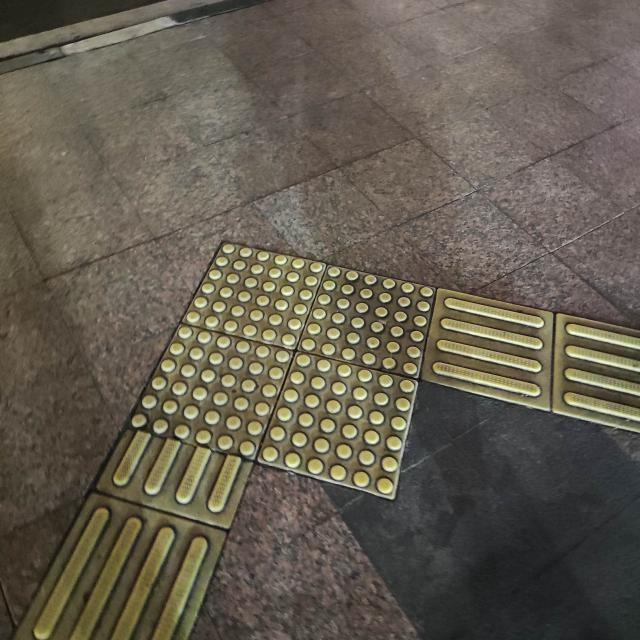kanan: (100, 209, 634, 563)
